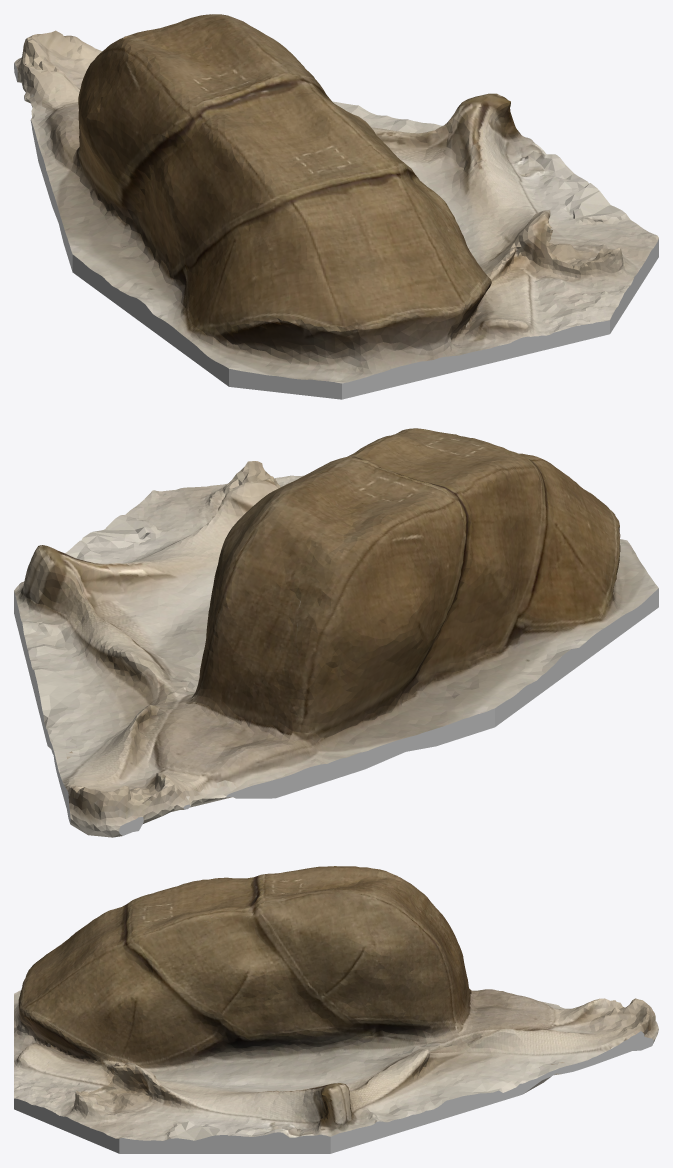
Rendered from frontside.glb.
The picture shows the model from 3 angles, top to bottom: view 1: azimuth 30°, elevation 25°; view 2: azimuth 150°, elevation 25°; view 3: azimuth 270°, elevation 25°; orthographic projection. The views are drawn at different scales.
Size of the model in its own units: 0.0356 by 0.0147 by 0.0555.
Materials: 1 (1 with a texture image).
